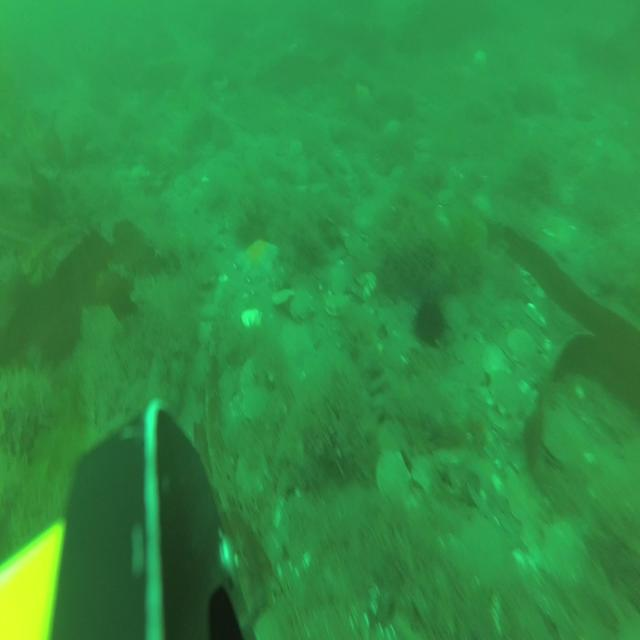echinus: (409, 295, 447, 349)
scallop: (502, 468, 544, 526), (374, 448, 414, 506), (236, 448, 271, 504), (489, 370, 520, 422), (542, 417, 572, 470), (507, 326, 537, 368), (481, 343, 511, 385), (241, 382, 269, 423), (238, 349, 259, 398), (288, 286, 313, 323), (342, 228, 367, 262), (325, 290, 350, 320), (435, 182, 458, 210), (239, 308, 263, 331), (270, 284, 295, 306), (172, 173, 193, 199), (413, 131, 433, 156), (198, 300, 220, 321), (198, 322, 214, 348)
starfish: (240, 234, 282, 285), (277, 317, 317, 370)
